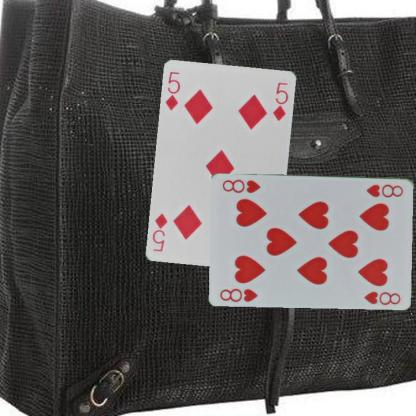5d: (163, 69, 181, 112)
8h: (217, 286, 259, 304), (364, 182, 404, 198)
